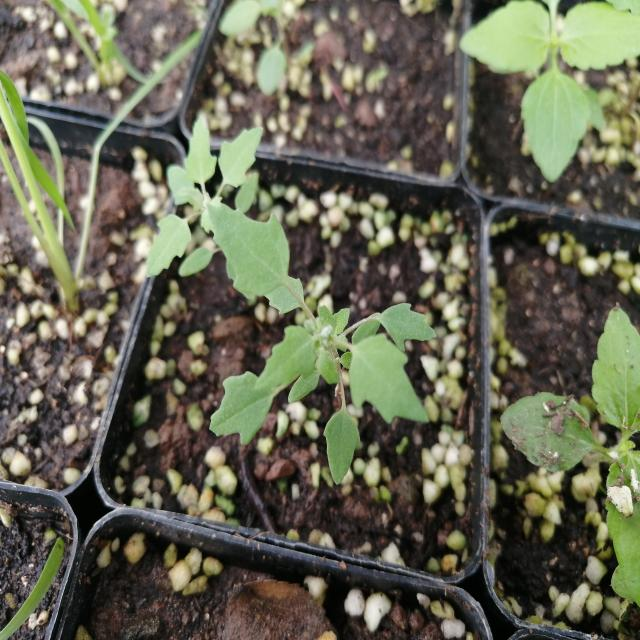goosefoots: (198, 206, 432, 477)
